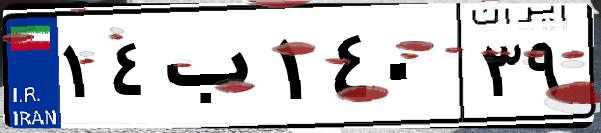0: (385, 28, 445, 110)
1: (270, 28, 330, 110), (57, 26, 110, 100)
3: (475, 38, 525, 113)
4: (330, 28, 385, 110), (110, 28, 158, 98)
9: (525, 38, 570, 115)
ب: (158, 20, 270, 120)
